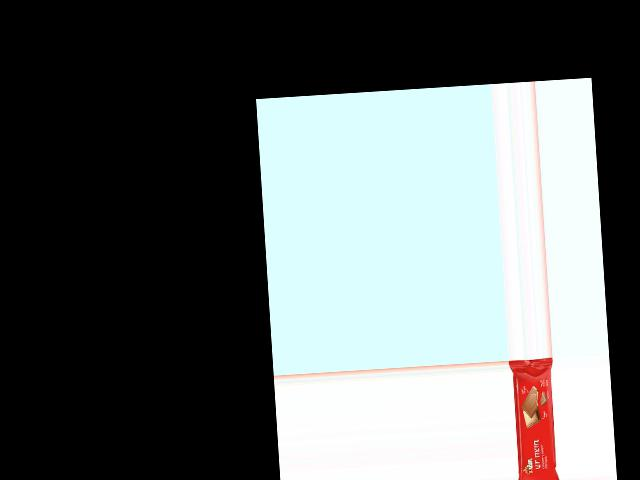chocolate: (509, 359, 562, 480)
